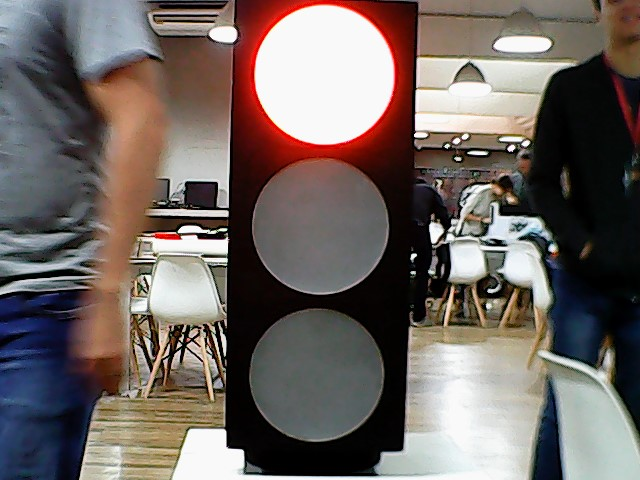vermelho: (224, 1, 424, 475)
